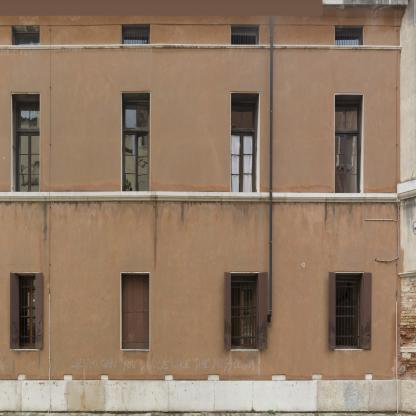Blind: (121, 272, 150, 350), (360, 272, 372, 350), (10, 272, 19, 350), (35, 272, 43, 350), (259, 272, 267, 350), (329, 272, 336, 349), (224, 272, 231, 349)
Building Outline: (0, 0, 408, 412)
Facade: (0, 18, 401, 412)
Floor Slab: (0, 220, 400, 230)
Ground Floor: (0, 230, 400, 411)
Sill: (0, 192, 398, 202), (0, 44, 403, 50)
Top Floor: (0, 18, 400, 230)
Window: (121, 92, 150, 191), (11, 92, 40, 191), (231, 92, 259, 192), (335, 93, 363, 193), (334, 272, 364, 349), (11, 272, 40, 351), (230, 272, 259, 351), (121, 272, 150, 350), (335, 25, 363, 45), (231, 25, 260, 44), (122, 25, 151, 44), (11, 26, 40, 45)
